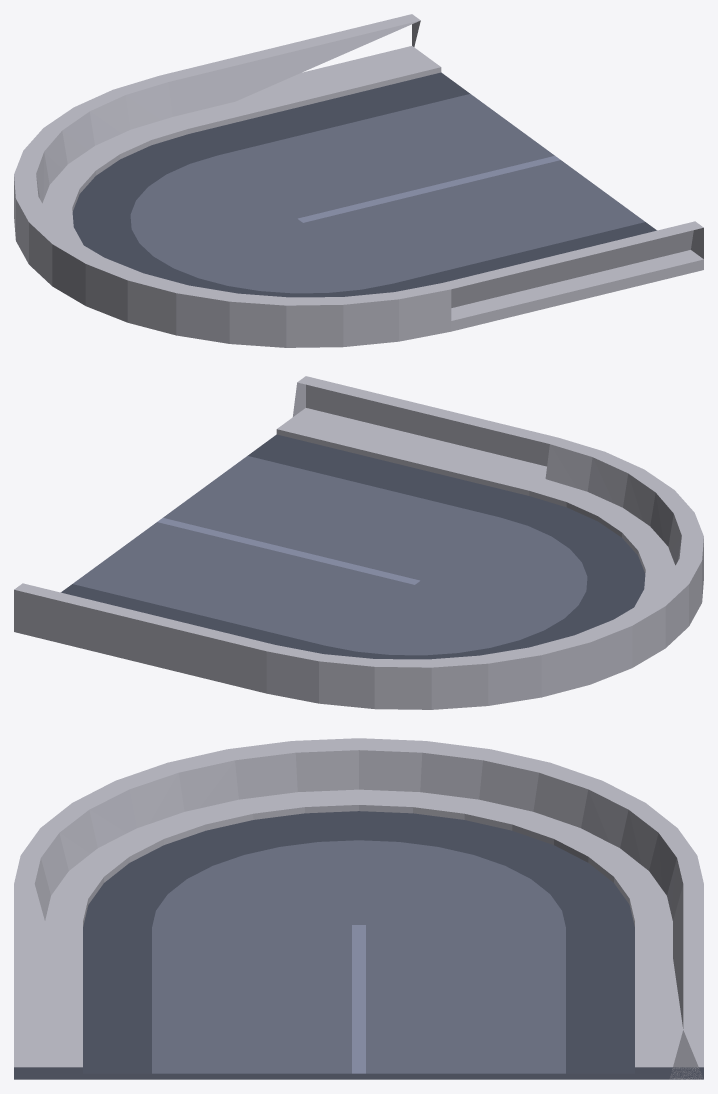
The model's file is road_endRound.glb.
The picture shows the model from 3 angles, top to bottom: view 1: azimuth 30°, elevation 25°; view 2: azimuth 150°, elevation 25°; view 3: azimuth 270°, elevation 25°; orthographic projection. The views are drawn at different scales.
Parts seen in each view (by area): view 1: road_endRound_f399d4, road_endRound_8fe318, road_endRound_054f3d, road_endRound_171385, road_endRound_7d04e0; view 2: road_endRound_f399d4, road_endRound_8fe318, road_endRound_054f3d, road_endRound_171385, road_endRound_7d04e0; view 3: road_endRound_f399d4, road_endRound_8fe318, road_endRound_171385, road_endRound_054f3d, road_endRound_7d04e0.
Part boxes in pixels (left/top/right/bottom): road_endRound_f399d4: left=130, top=94, right=644, bottom=293; road_endRound_8fe318: left=14, top=14, right=703, bottom=347; road_endRound_054f3d: left=14, top=46, right=703, bottom=347; road_endRound_171385: left=72, top=72, right=656, bottom=297; road_endRound_7d04e0: left=298, top=156, right=560, bottom=222; road_endRound_f399d4: left=73, top=456, right=587, bottom=655; road_endRound_8fe318: left=14, top=376, right=703, bottom=709; road_endRound_054f3d: left=14, top=408, right=703, bottom=709; road_endRound_171385: left=61, top=434, right=645, bottom=659; road_endRound_7d04e0: left=157, top=518, right=419, bottom=584; road_endRound_f399d4: left=14, top=840, right=703, bottom=1079; road_endRound_8fe318: left=14, top=738, right=703, bottom=1079; road_endRound_171385: left=83, top=811, right=634, bottom=1073; road_endRound_054f3d: left=14, top=789, right=703, bottom=1067; road_endRound_7d04e0: left=352, top=925, right=365, bottom=1073.
Size of the model in its own units: 1 by 0.08 by 1.
